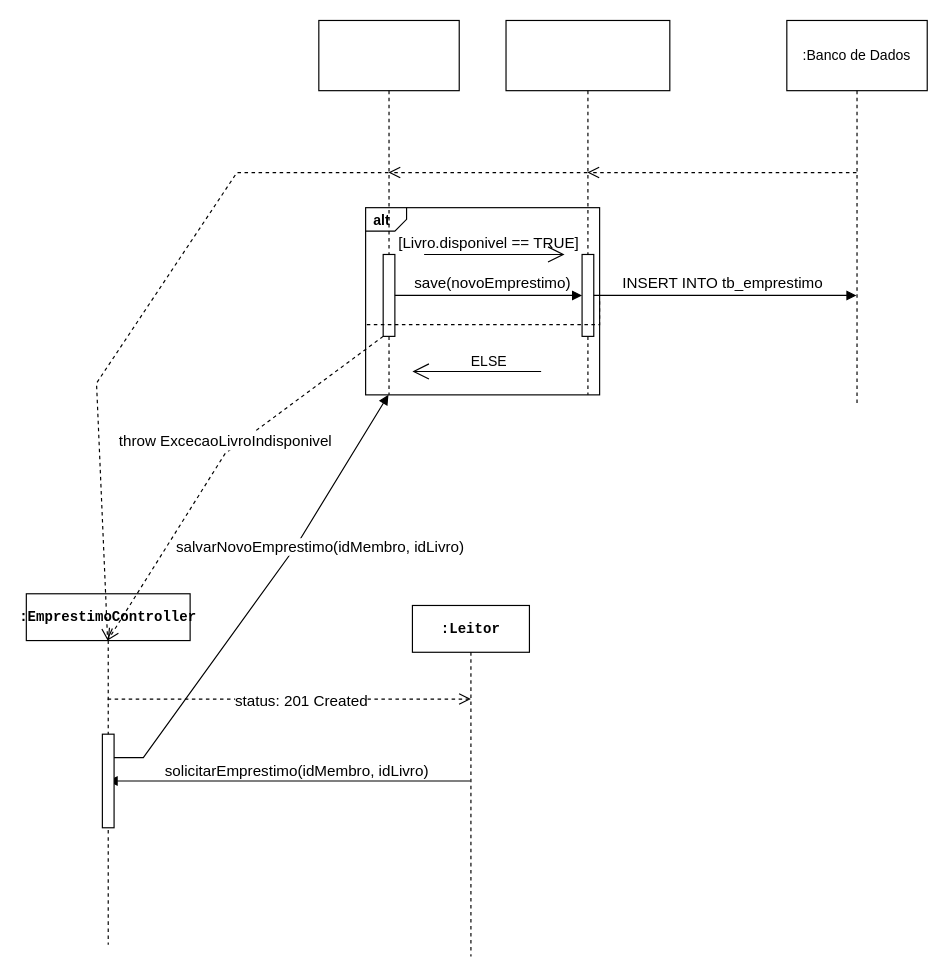
Image size: 948x977. Some labels were removed from this diagram. Here are the shapes that lost their labels. From the top down, the centre of each, then its label:
At point (388, 207): ":EmprestimoService".
At point (587, 207): ":EmprestimoRepository".
